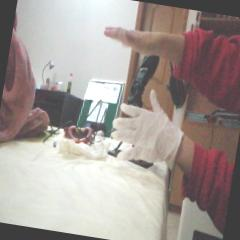gloved: (107, 86, 189, 170)
not-gloved: (100, 22, 173, 61)
